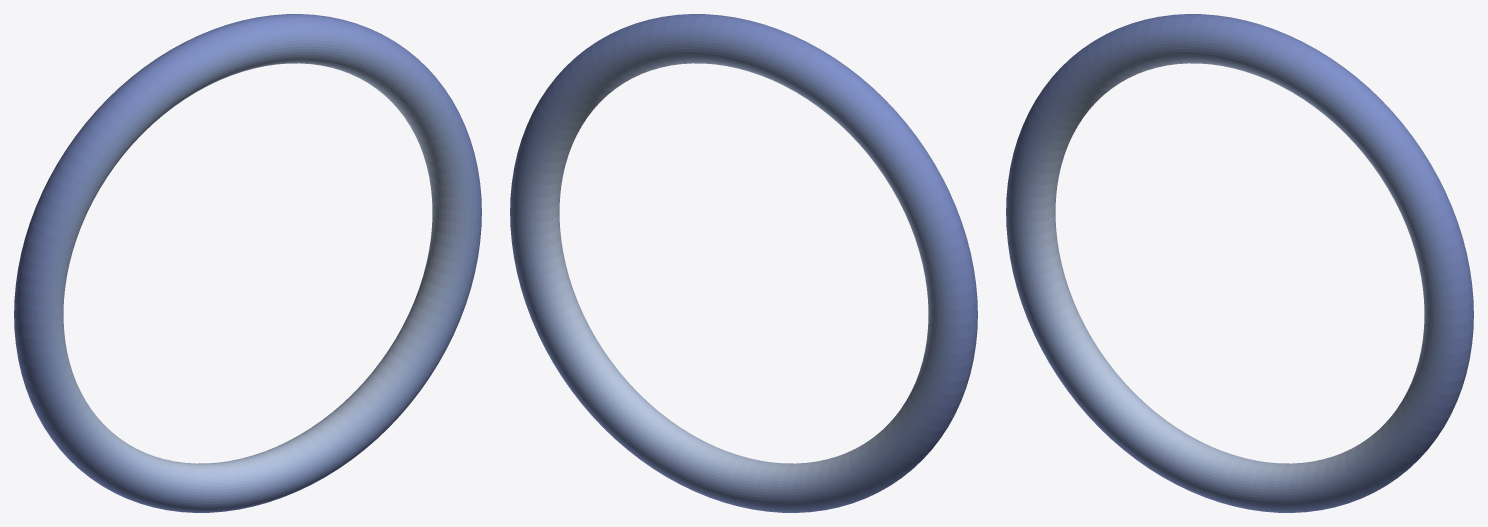
3 views of the same model, side by side, from view 1: azimuth 30°, elevation 25°; view 2: azimuth 150°, elevation 25°; view 3: azimuth 330°, elevation 25° (orthographic).
Visible parts, largest first — view 1: world; view 2: world; view 3: world.
Boxes of the visible parts, left/top/right/bottom form: world: left=14, top=14, right=481, bottom=512; world: left=510, top=14, right=977, bottom=512; world: left=1006, top=14, right=1473, bottom=512.
Size of the model in its own units: 30.13 by 30.13 by 2.79.
